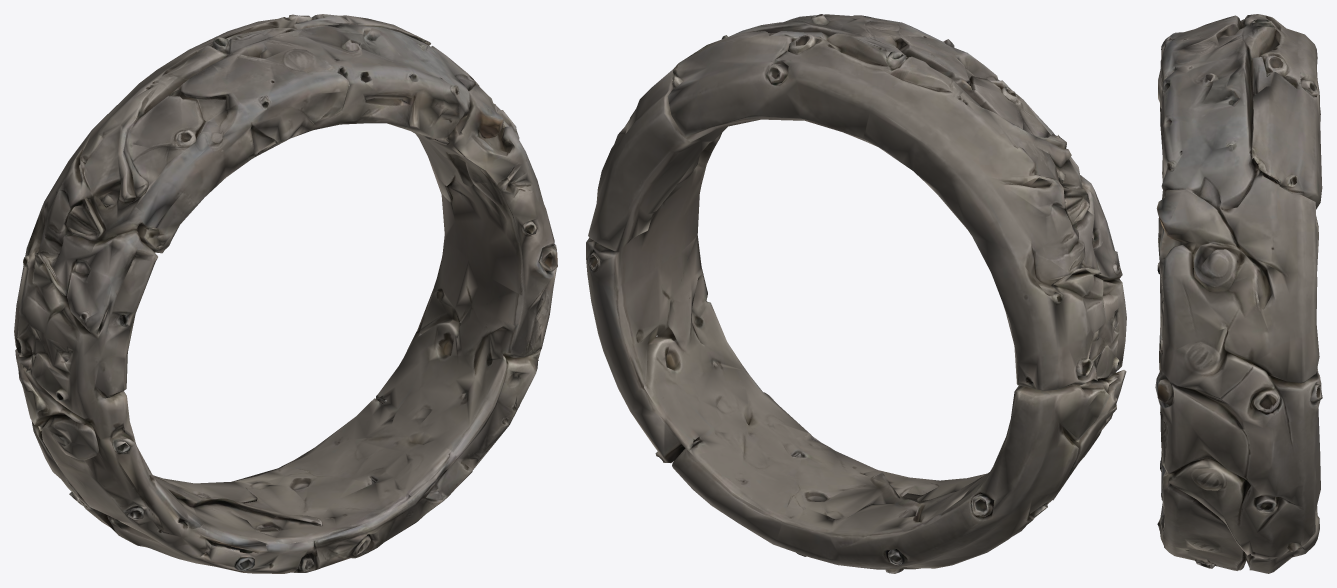
The model's file is bracelet.glb.
The picture shows the model from 3 angles, left to right: view 1: azimuth 30°, elevation 25°; view 2: azimuth 150°, elevation 25°; view 3: azimuth 270°, elevation 25°; orthographic projection. The views are drawn at different scales.
Visible parts, largest first — view 1: bracelet; view 2: bracelet; view 3: bracelet.
Boxes of the visible parts, bbox=[...] form: bracelet: bbox=[14, 14, 557, 573]; bracelet: bbox=[586, 14, 1126, 573]; bracelet: bbox=[1155, 14, 1322, 573].
Bounding box in the file's own units: 0.9767 × 0.9785 × 0.2934.
1 material, 1 textured.
